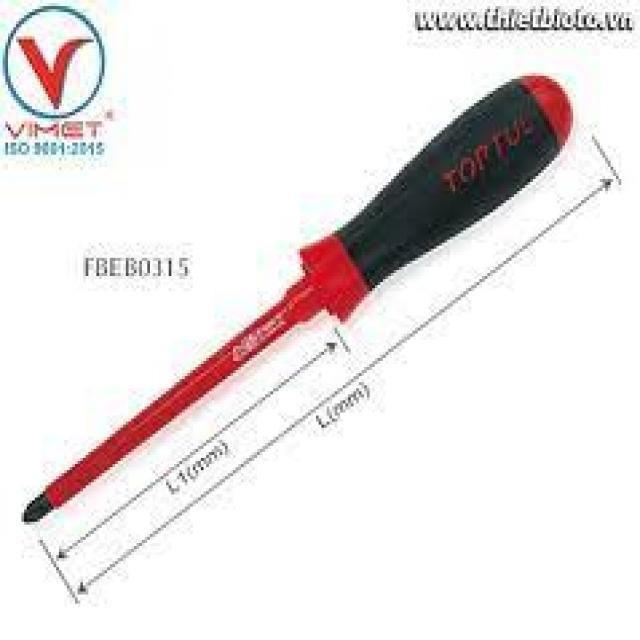screwdriver: (14, 73, 578, 531)
